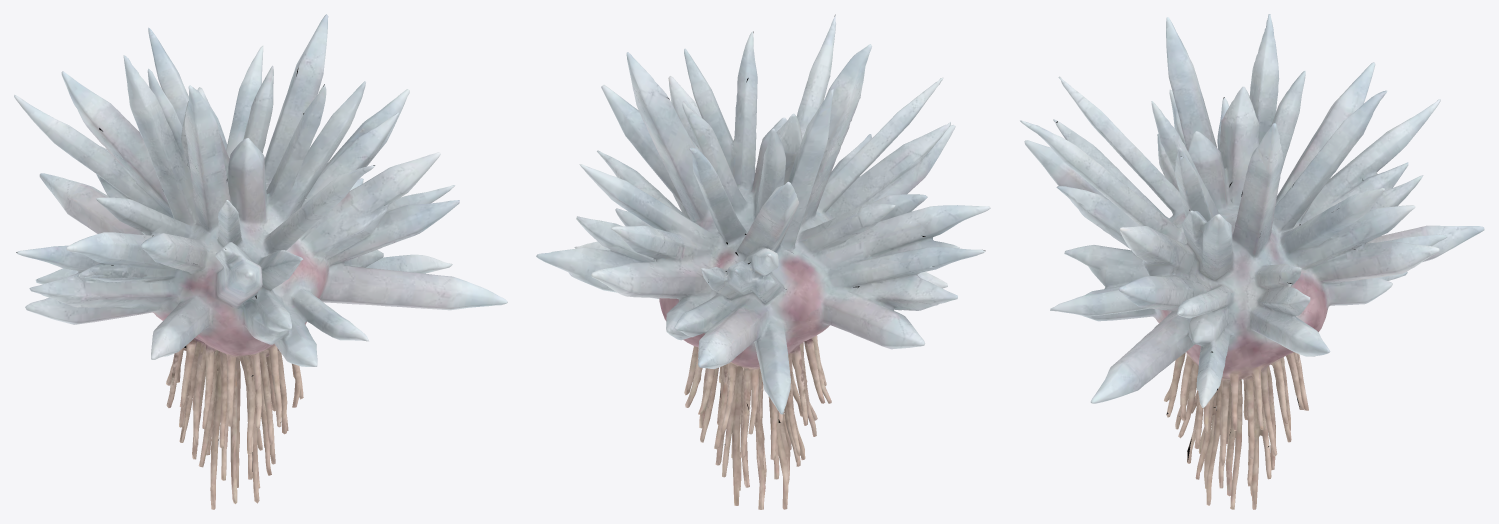
Rendered from boss-screamer.glb.
3 views of the same model, side by side, from view 1: azimuth 30°, elevation 25°; view 2: azimuth 150°, elevation 25°; view 3: azimuth 270°, elevation 25° (orthographic).
Visible parts, largest first — view 1: attack-membrane; view 2: attack-membrane; view 3: attack-membrane.
Part boxes in pixels (x1,y1,x2,y2): attack-membrane: [14, 14, 507, 509]; attack-membrane: [536, 14, 990, 509]; attack-membrane: [1020, 14, 1484, 509].
Size of the model in its own units: 1.93 by 1.99 by 1.85.
1 material, 1 textured.
